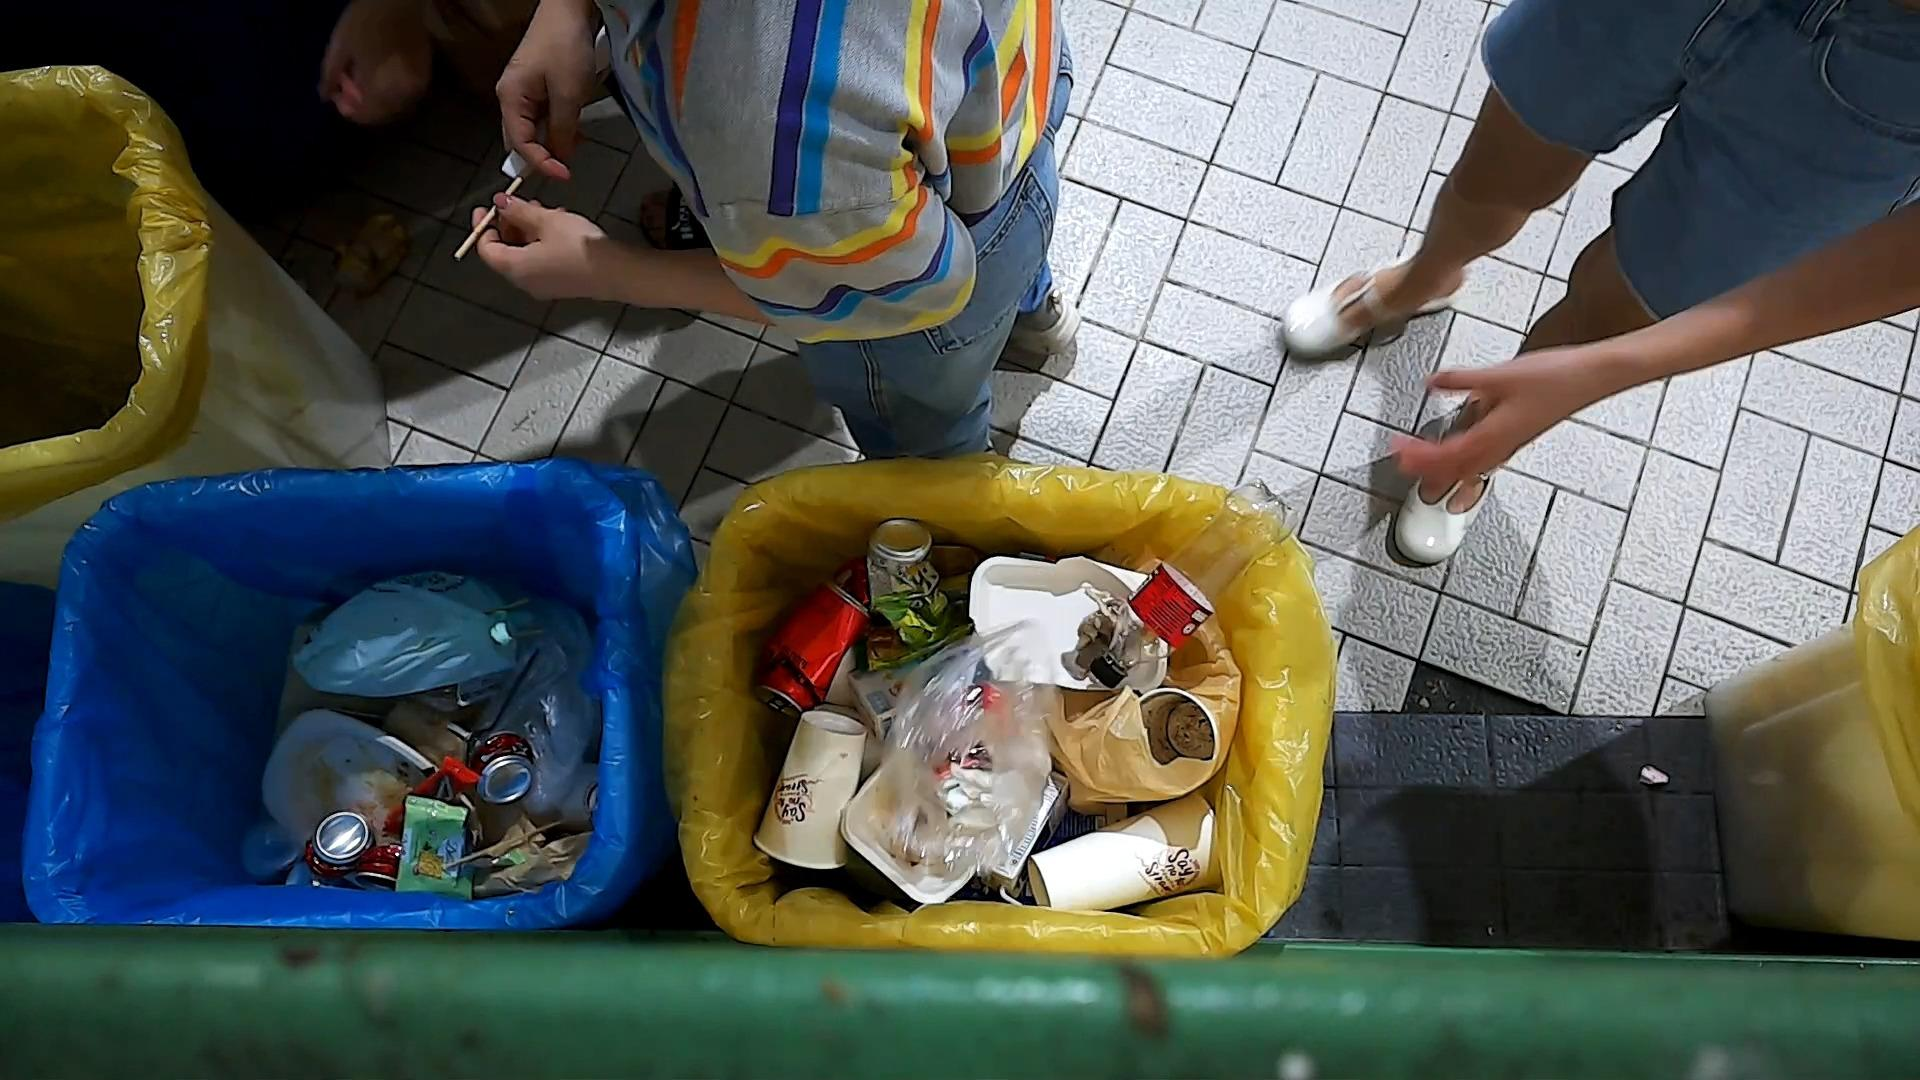can: (749, 575, 874, 721), (864, 514, 957, 655), (301, 806, 378, 884), (469, 728, 539, 807)
dirty food container: (965, 549, 1174, 695)
filled plastic bag: (877, 613, 1056, 882), (1060, 612, 1247, 814), (285, 562, 545, 702)
food container: (836, 729, 1056, 918), (258, 704, 436, 852)
paper bag: (479, 803, 595, 902)
plastic bag: (472, 576, 601, 820)
plastic bottle: (1084, 472, 1307, 690)
plastic cutlery: (463, 642, 546, 770)
snack packaging: (392, 791, 525, 903), (378, 752, 492, 839)
sticks: (448, 152, 531, 260), (443, 818, 574, 870)
zero waste cup: (1023, 787, 1226, 918), (749, 708, 868, 873)
